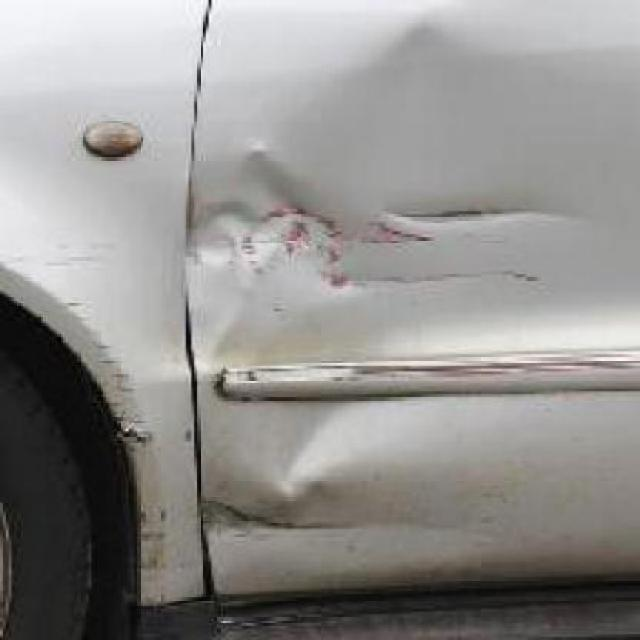dent-or-scratch: (197, 128, 596, 346), (200, 360, 589, 551), (62, 268, 182, 584), (313, 2, 535, 106)
